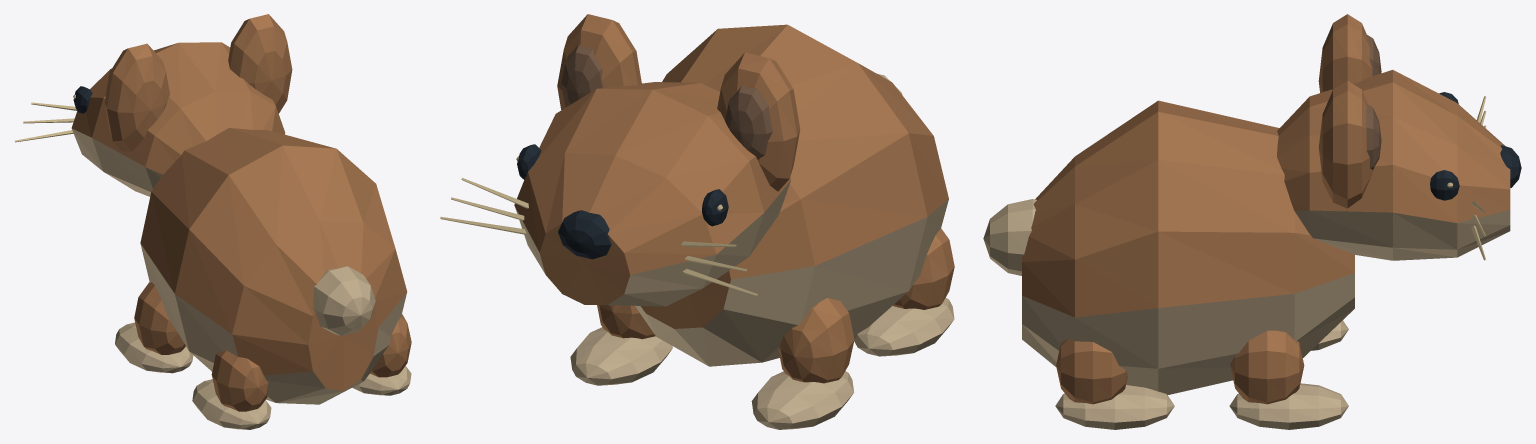
Rendered from pika.glb.
The picture shows the model from 3 angles, left to right: view 1: azimuth 30°, elevation 25°; view 2: azimuth 150°, elevation 25°; view 3: azimuth 270°, elevation 25°; orthographic projection. The views are drawn at different scales.
Parts seen in each view (by area): view 1: Body, Head, Leg2, Leg0, Tail, Leg3; view 2: Head, Body, Leg0, Leg2, Leg1; view 3: Body, Head, Leg1, Leg3, Tail.
Part boxes in pixels (x1=…): Body: x1=140, y1=128, x2=407, y2=404; Head: x1=15, y1=14, x2=292, y2=196; Leg2: x1=192, y1=350, x2=271, y2=429; Leg0: x1=115, y1=282, x2=193, y2=373; Tail: x1=313, y1=266, x2=375, y2=335; Leg3: x1=352, y1=314, x2=411, y2=395; Head: x1=440, y1=14, x2=800, y2=306; Body: x1=635, y1=24, x2=948, y2=366; Leg0: x1=751, y1=298, x2=854, y2=429; Leg2: x1=854, y1=228, x2=954, y2=356; Leg1: x1=570, y1=305, x2=672, y2=385; Body: x1=1022, y1=100, x2=1354, y2=394; Head: x1=1277, y1=14, x2=1521, y2=260; Leg1: x1=1229, y1=330, x2=1348, y2=429; Leg3: x1=1055, y1=338, x2=1174, y2=429; Tail: x1=983, y1=199, x2=1036, y2=275.
Bounding box in the file's own units: 0.4204 × 0.4864 × 0.711.
